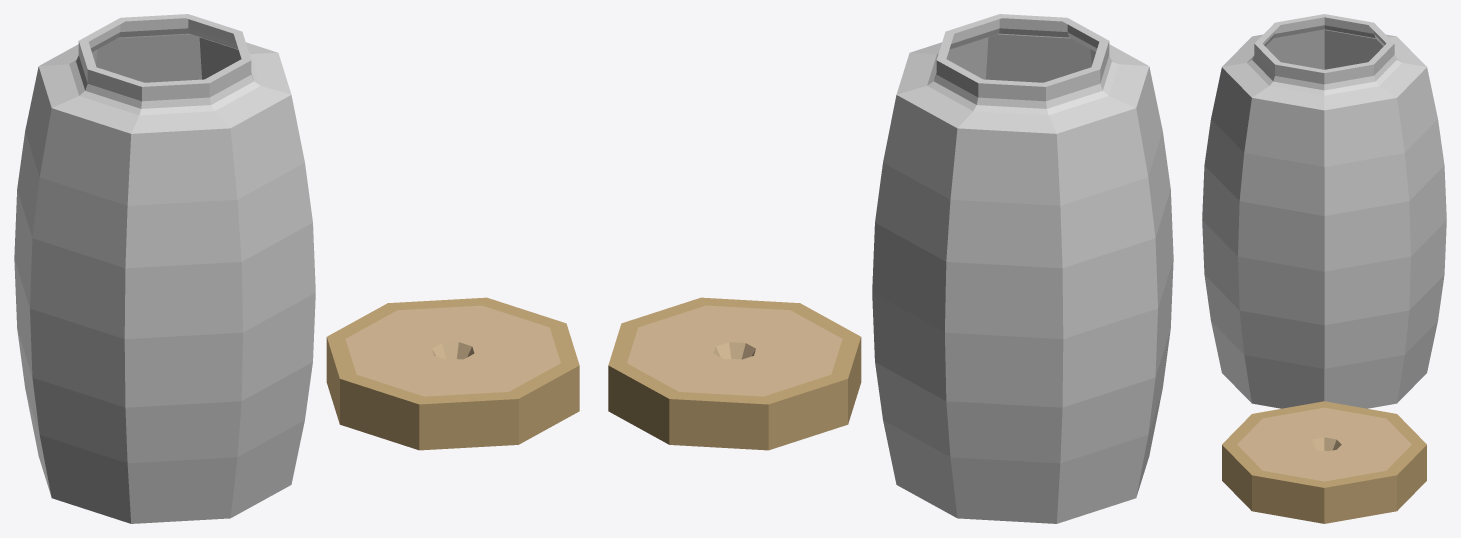
The model's file is Jar Make.glb.
The picture shows the model from 3 angles, left to right: view 1: azimuth 30°, elevation 25°; view 2: azimuth 150°, elevation 25°; view 3: azimuth 270°, elevation 25°; orthographic projection. The views are drawn at different scales.
Parts seen in each view (by area): view 1: bottle, cap; view 2: bottle, cap; view 3: bottle, cap.
Part boxes in pixels (left/top/right/bottom): bottle: left=14, top=14, right=315, bottom=523; cap: left=326, top=297, right=579, bottom=450; bottle: left=872, top=14, right=1173, bottom=523; cap: left=608, top=297, right=861, bottom=450; bottle: left=1202, top=14, right=1446, bottom=408; cap: left=1222, top=401, right=1426, bottom=523.
Size of the model in its own units: 1.88 by 1.41 by 0.9491.
